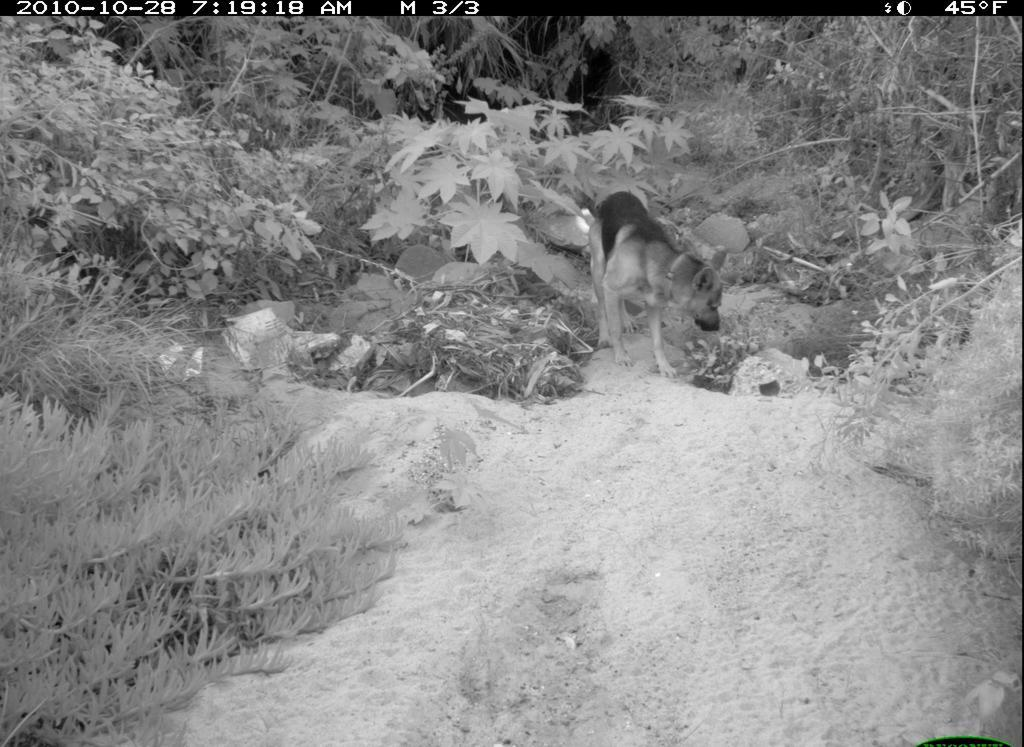dog: (571, 184, 731, 386)
